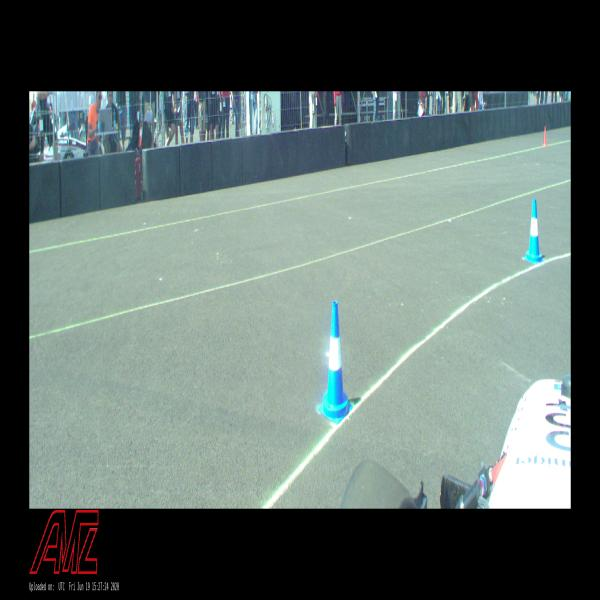blue_cone: (318, 301, 353, 425), (524, 200, 544, 264)
unknown_cone: (542, 126, 548, 146)
